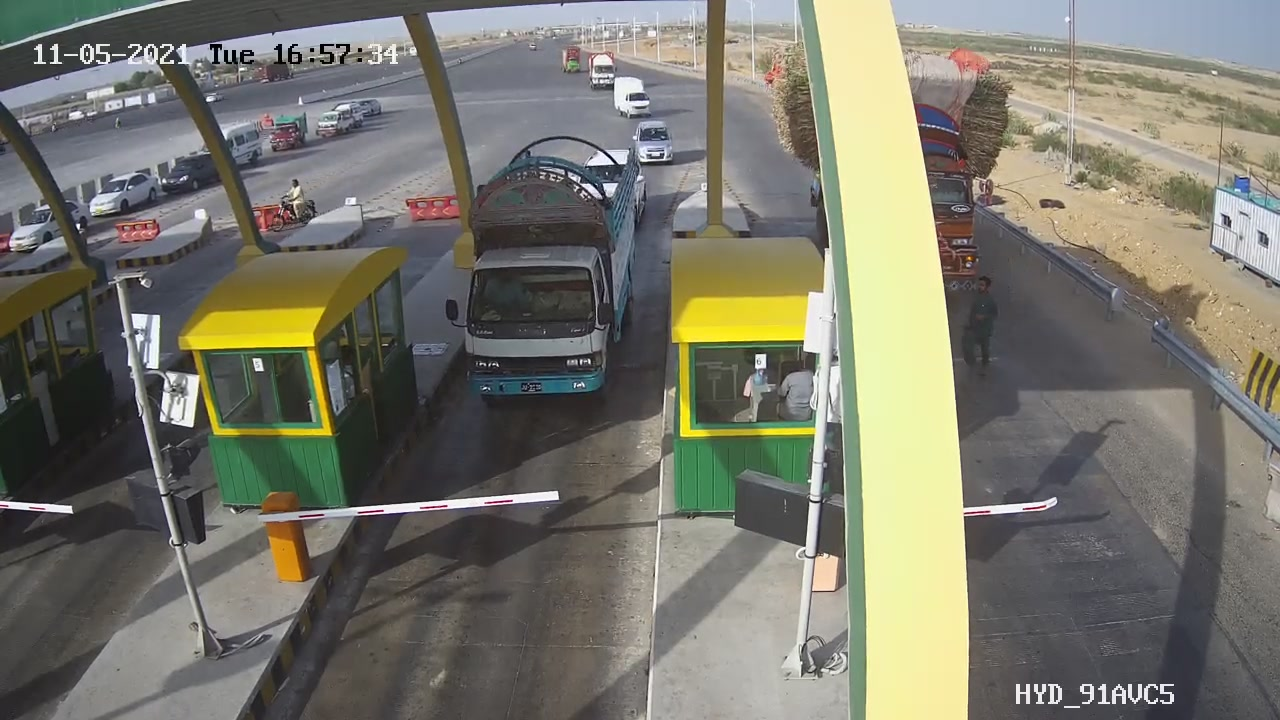F5: (431, 121, 657, 425)
